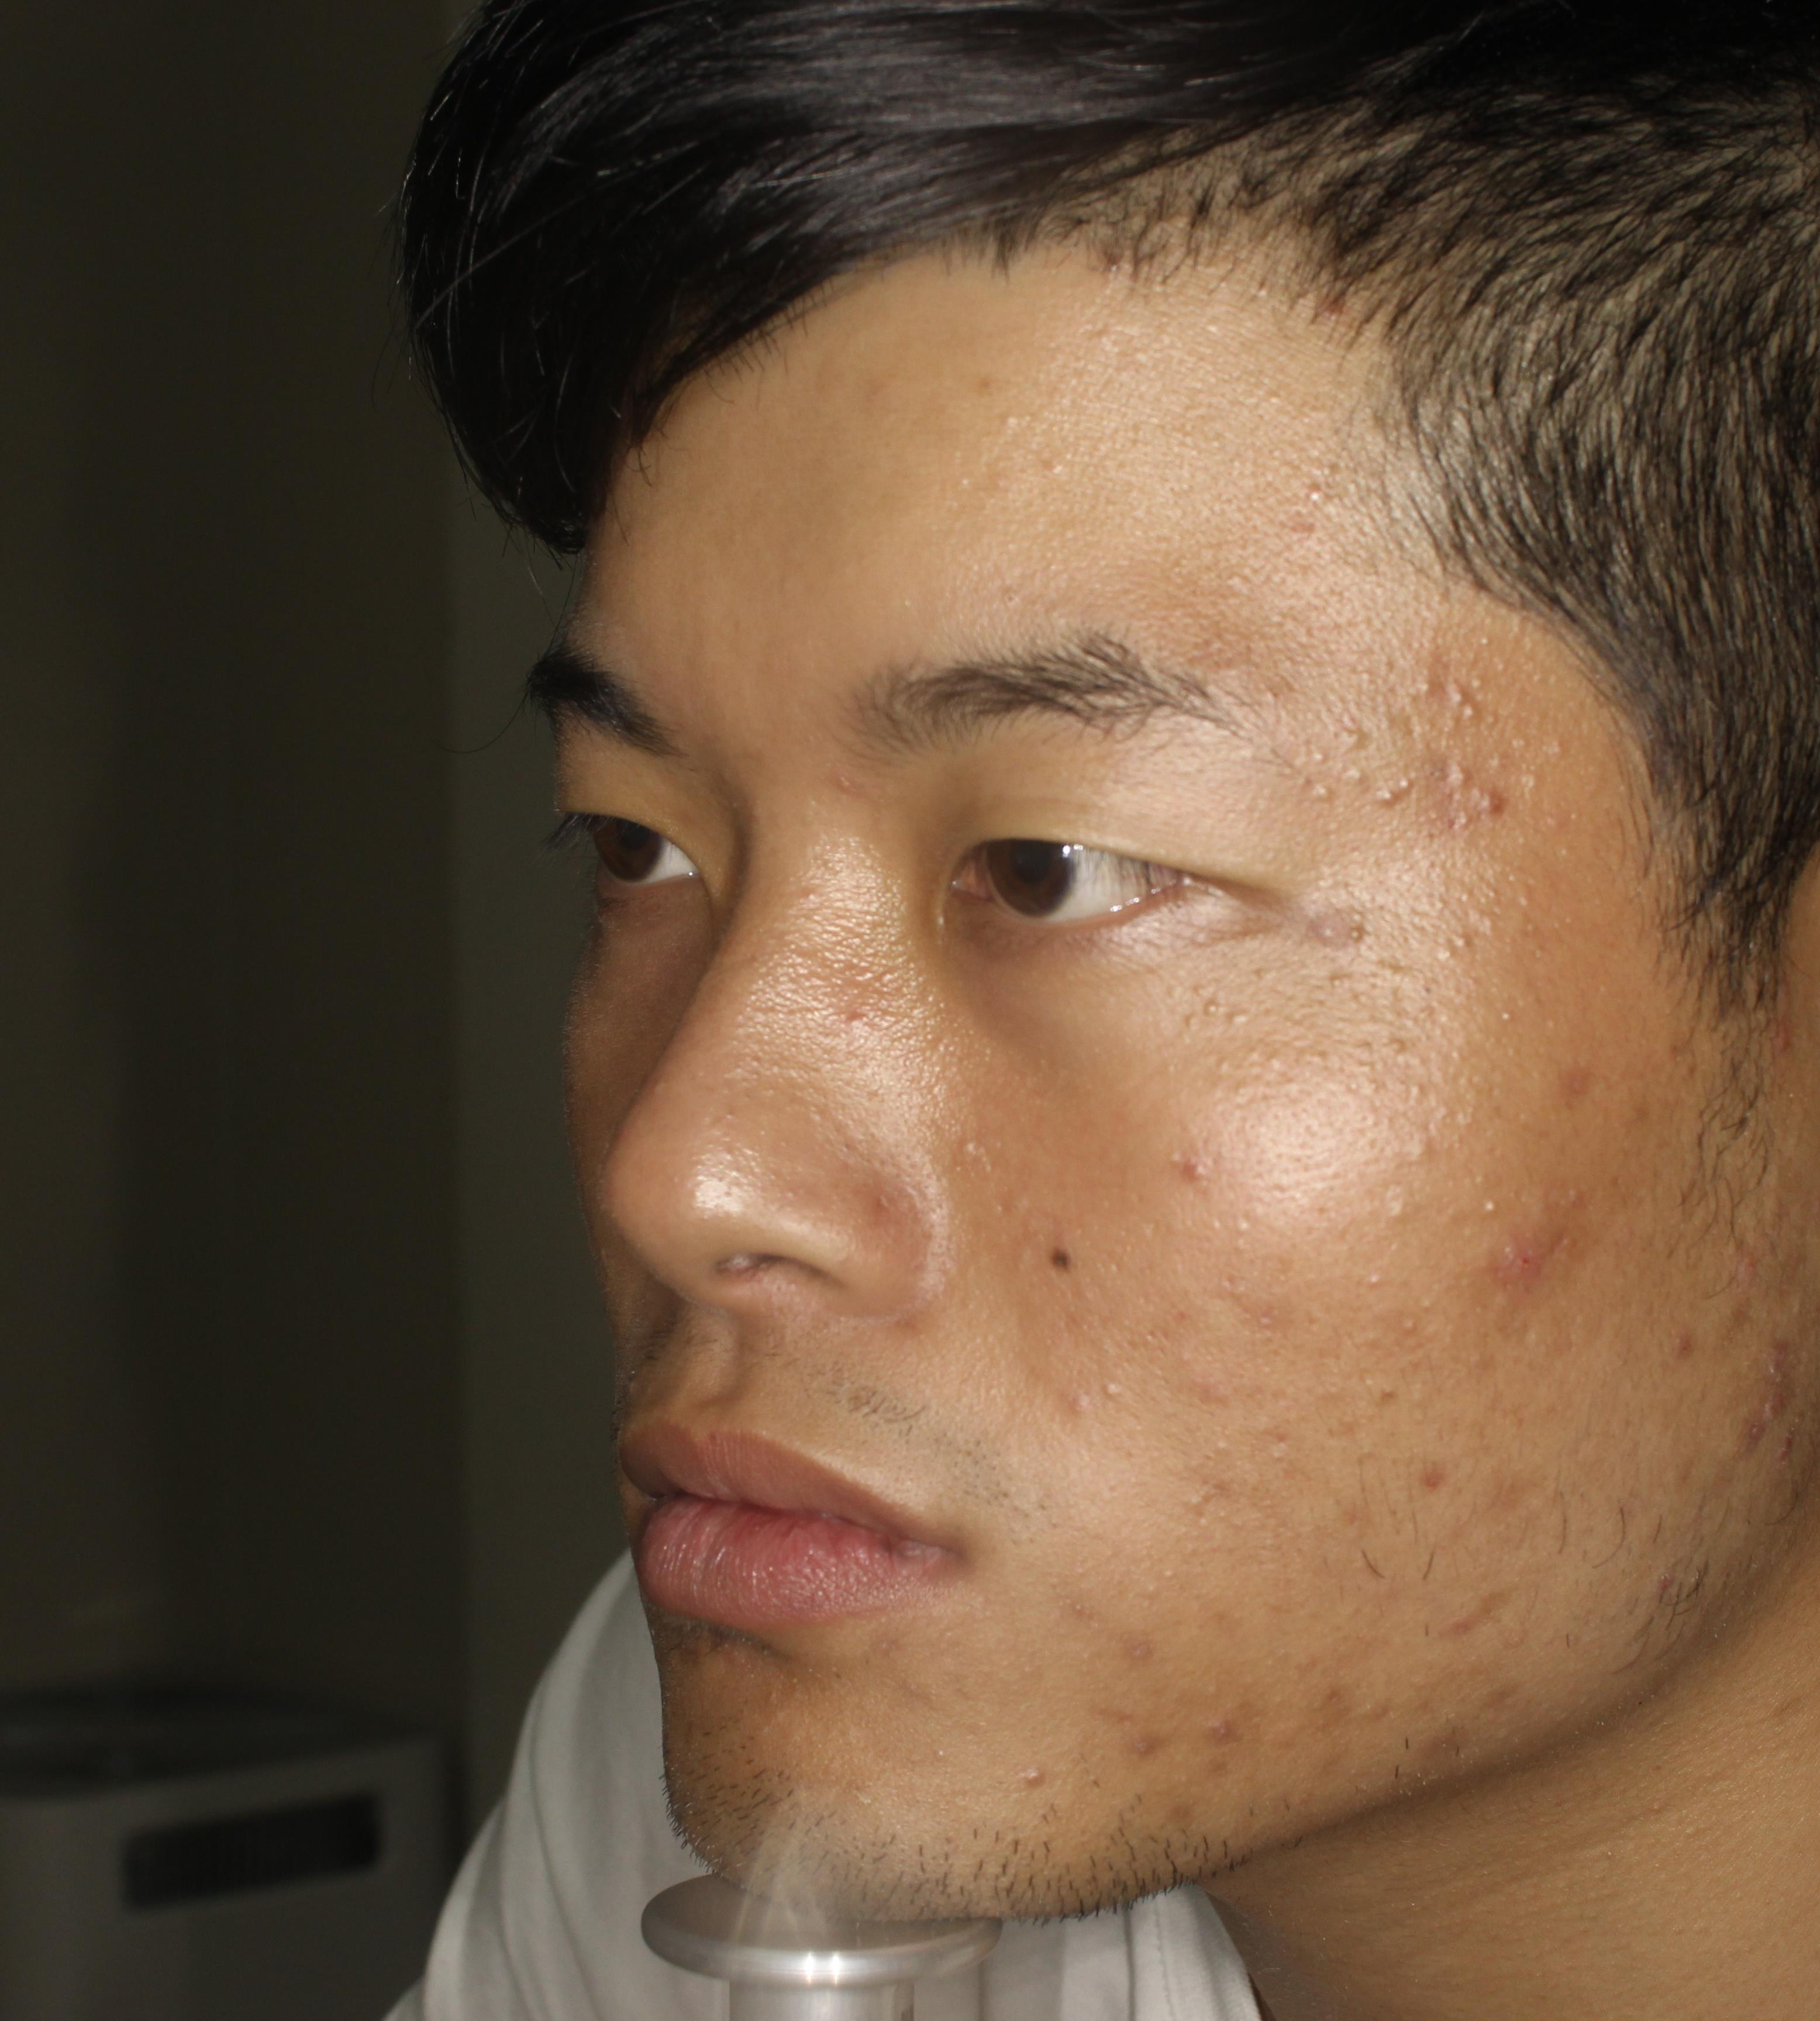fore: (1086, 1701, 1207, 1791), (1458, 1199, 1571, 1289), (1435, 752, 1539, 832), (1412, 1687, 1490, 1782), (1426, 1577, 1521, 1652), (1655, 1289, 1744, 1361), (1193, 1666, 1260, 1759), (1291, 1658, 1360, 1719)
